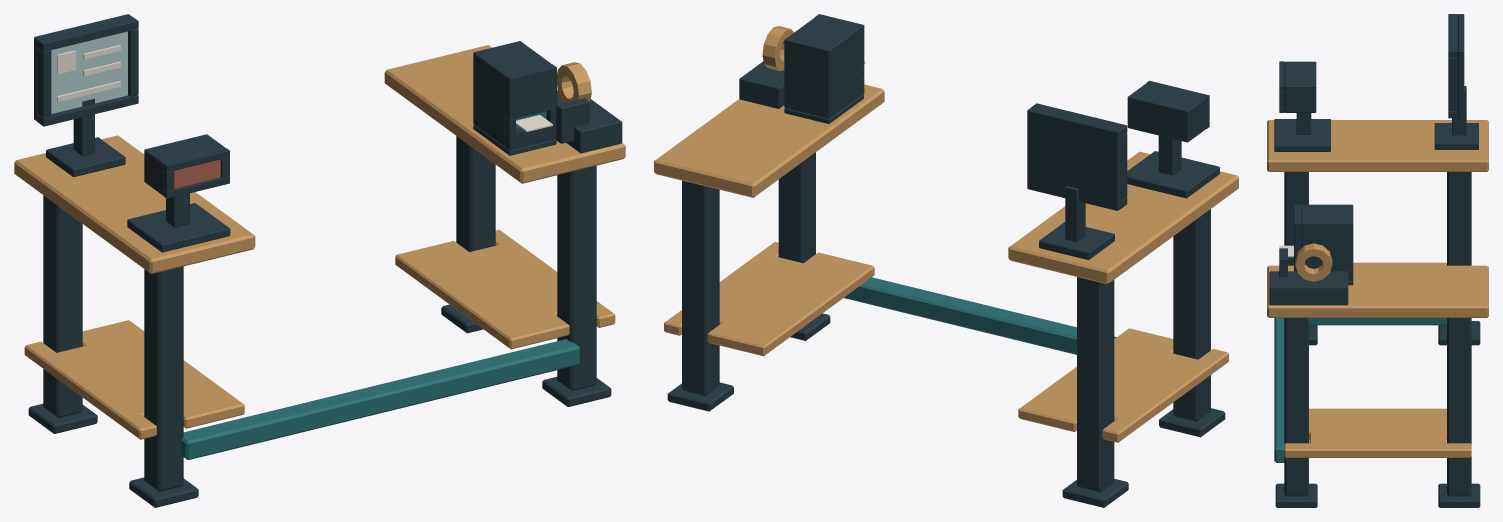
Rendered from packing-station.glb.
The picture shows the model from 3 angles, left to right: view 1: azimuth 30°, elevation 25°; view 2: azimuth 150°, elevation 25°; view 3: azimuth 270°, elevation 25°; orthographic projection. The views are drawn at different scales.
Parts seen in each view (by area): view 1: packing-station__batch_02, packing-station__batch_00, packing-station__batch_01, packing-station__batch_04, packing-station__batch_08, packing-station__batch_06, packing-station__batch_10, packing-station__batch_11, packing-station__batch_09, packing-station__batch_12, packing-station__batch_07; view 2: packing-station__batch_02, packing-station__batch_00, packing-station__batch_08, packing-station__batch_04, packing-station__batch_06, packing-station__batch_01, packing-station__batch_11, packing-station__batch_12; view 3: packing-station__batch_02, packing-station__batch_00, packing-station__batch_06, packing-station__batch_04, packing-station__batch_08, packing-station__batch_11, packing-station__batch_01, packing-station__batch_12.
Boxes of the visible parts, left/top/right/bottom form: packing-station__batch_02: left=14, top=45, right=625, bottom=439; packing-station__batch_00: left=28, top=136, right=611, bottom=507; packing-station__batch_01: left=181, top=339, right=579, bottom=459; packing-station__batch_04: left=473, top=41, right=556, bottom=155; packing-station__batch_08: left=34, top=14, right=138, bottom=177; packing-station__batch_06: left=127, top=134, right=230, bottom=252; packing-station__batch_10: left=51, top=31, right=127, bottom=113; packing-station__batch_11: left=556, top=90, right=622, bottom=153; packing-station__batch_09: left=57, top=45, right=120, bottom=102; packing-station__batch_12: left=557, top=62, right=591, bottom=102; packing-station__batch_07: left=174, top=159, right=220, bottom=188; packing-station__batch_02: left=654, top=84, right=1238, bottom=442; packing-station__batch_00: left=667, top=152, right=1225, bottom=507; packing-station__batch_08: left=1027, top=103, right=1127, bottom=260; packing-station__batch_04: left=784, top=14, right=864, bottom=123; packing-station__batch_06: left=1127, top=80, right=1219, bottom=198; packing-station__batch_01: left=844, top=277, right=1116, bottom=354; packing-station__batch_11: left=739, top=61, right=784, bottom=108; packing-station__batch_12: left=762, top=26, right=793, bottom=71; packing-station__batch_02: left=1267, top=120, right=1488, bottom=457; packing-station__batch_00: left=1275, top=172, right=1480, bottom=507; packing-station__batch_06: left=1274, top=61, right=1330, bottom=151; packing-station__batch_04: left=1294, top=204, right=1353, bottom=285; packing-station__batch_08: left=1434, top=14, right=1478, bottom=149; packing-station__batch_11: left=1269, top=248, right=1348, bottom=305; packing-station__batch_01: left=1274, top=318, right=1446, bottom=462; packing-station__batch_12: left=1295, top=243, right=1332, bottom=281.
Bounding box in the file's own units: 1.8 × 1.4 × 0.9.
